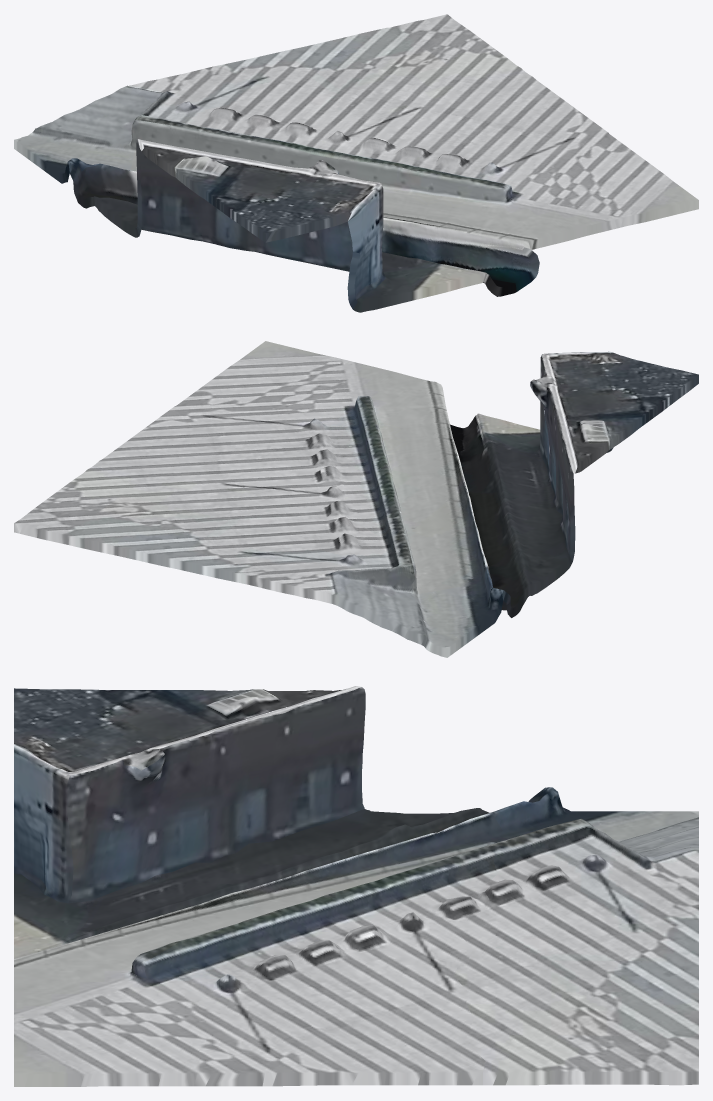
The model's file is z20-167794-405224-h0-yup-uvflip-v3-world.glb.
The picture shows the model from 3 angles, top to bottom: view 1: azimuth 30°, elevation 25°; view 2: azimuth 150°, elevation 25°; view 3: azimuth 270°, elevation 25°; orthographic projection. The views are drawn at different scales.
Size of the model in its own units: 30.16 by 8.48 by 30.32.
1 material, 1 textured.
